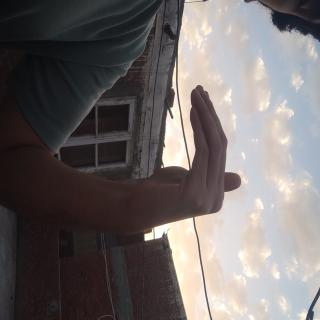KHAA: (60, 102, 196, 263)
